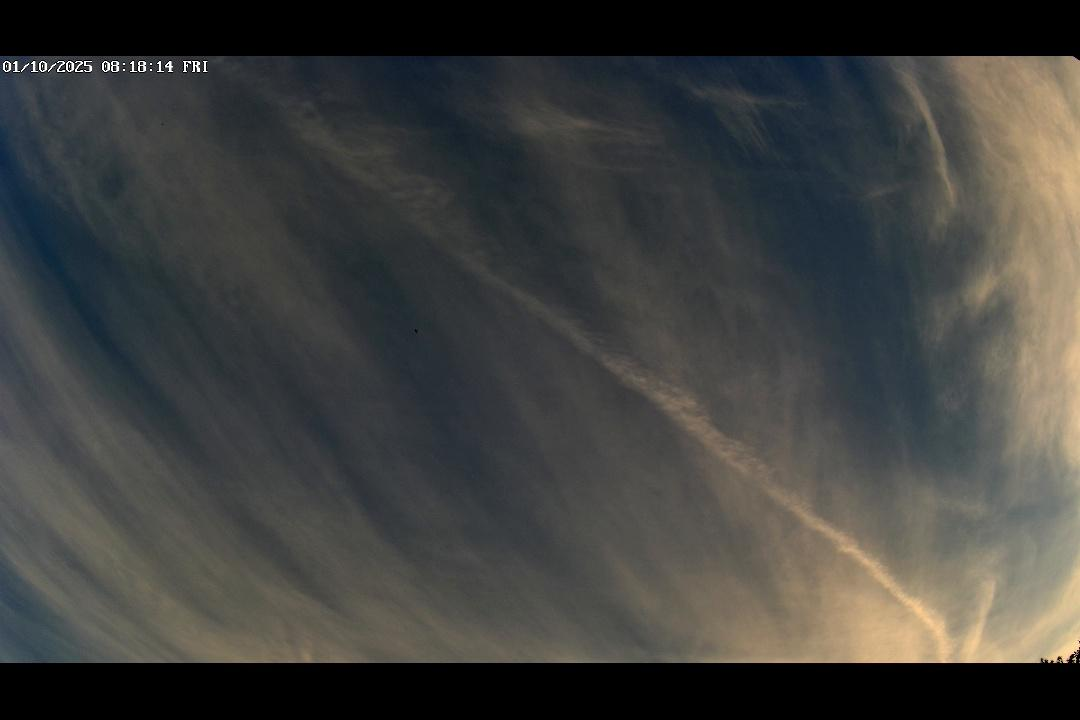WildLife: (405, 323, 427, 338), (159, 122, 166, 127)
